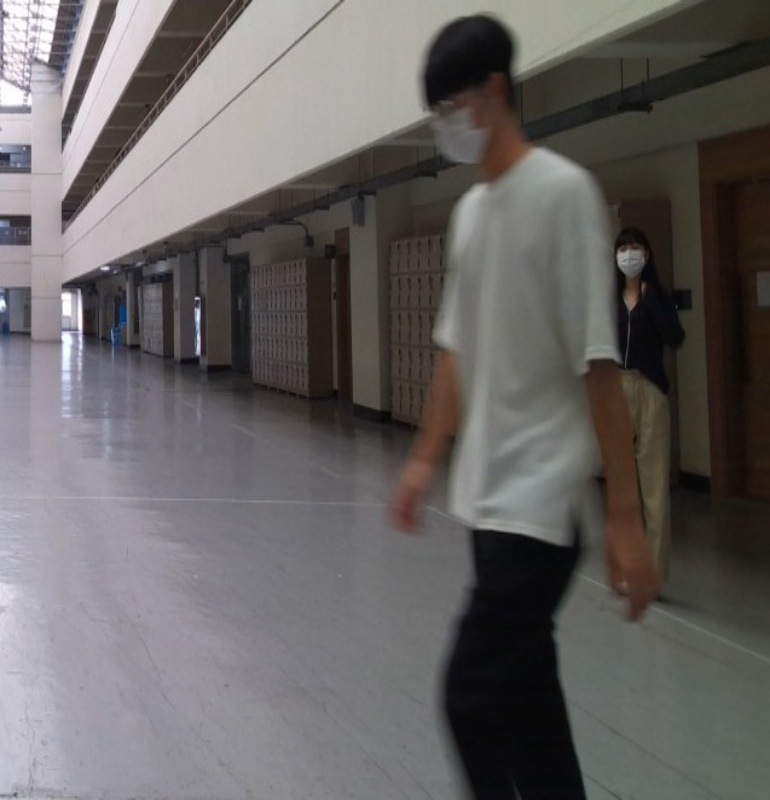person: (391, 10, 667, 799)
